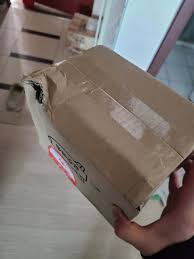damaged package: (21, 65, 71, 114)
undamaged: (67, 45, 193, 213)
